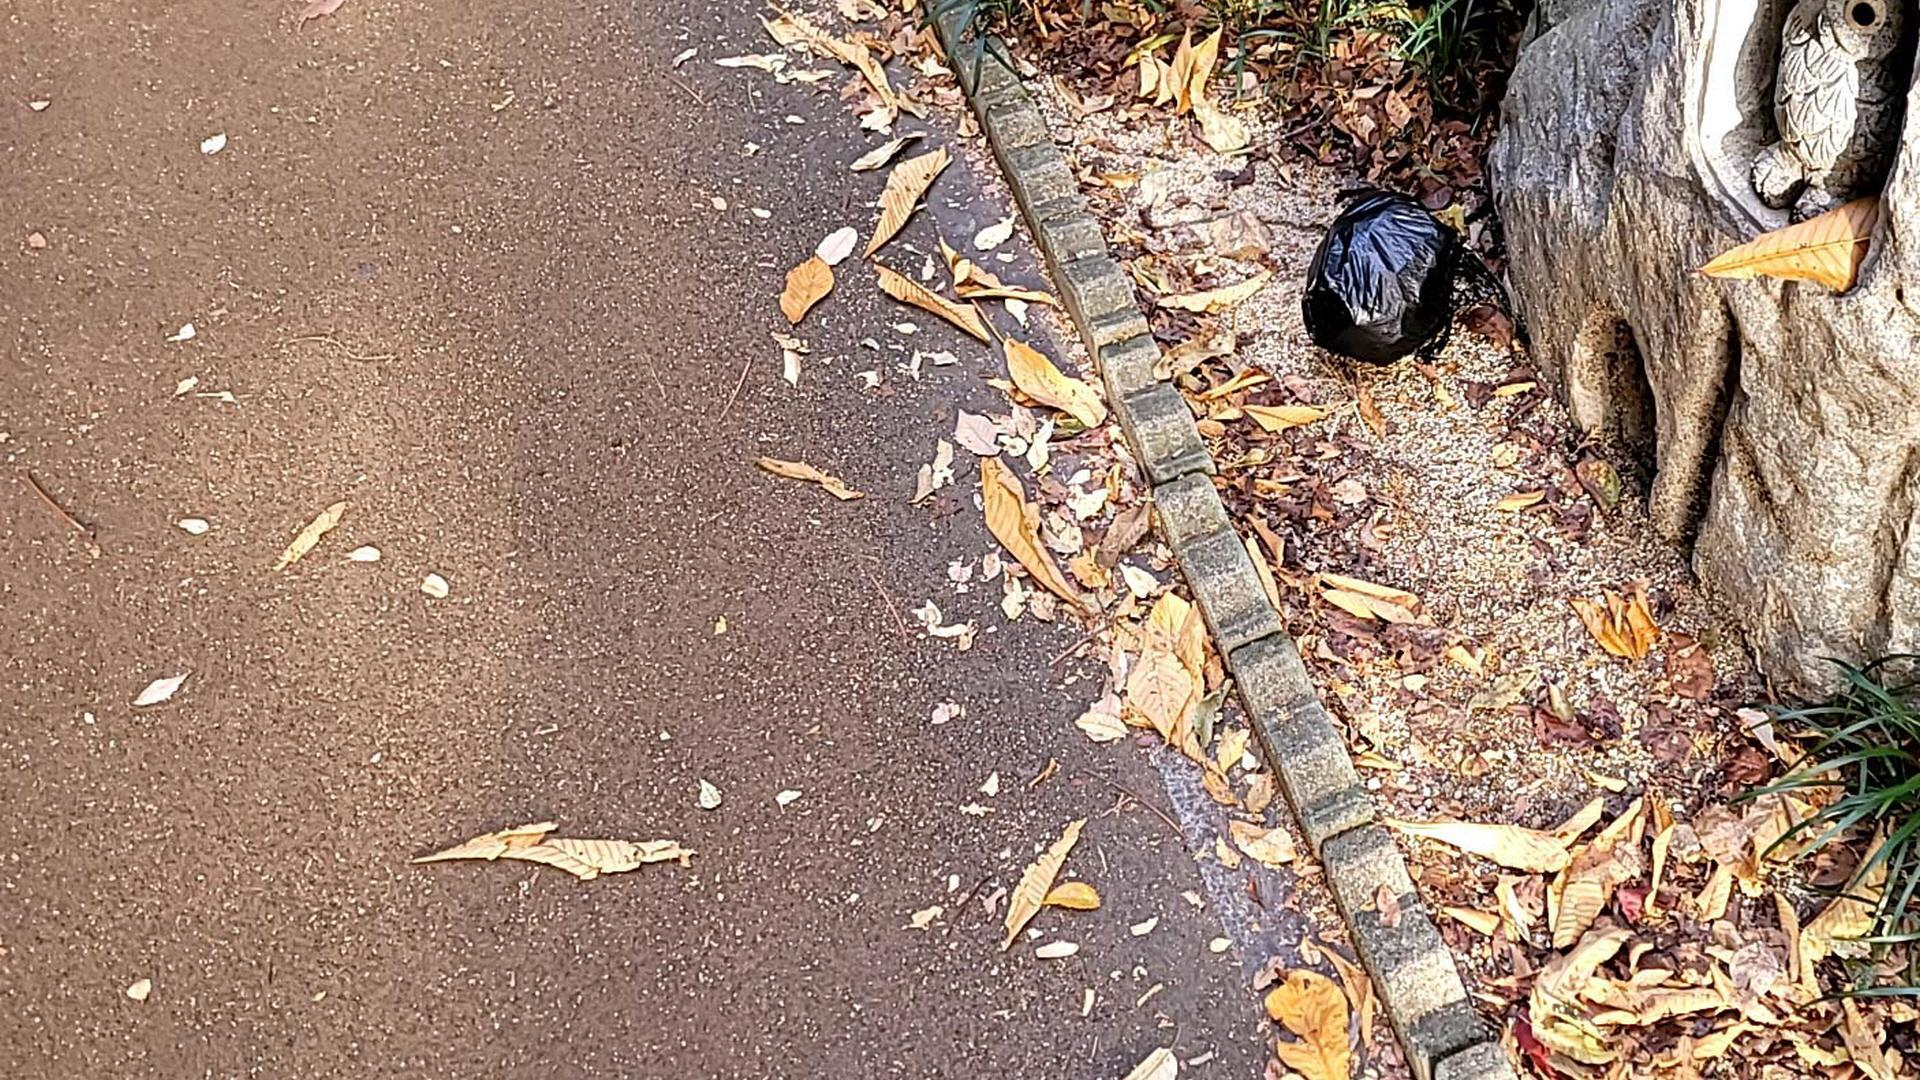black_bag: (1291, 181, 1458, 372)
